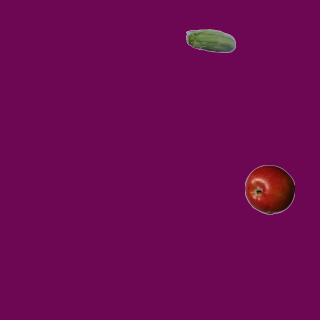Apple Braeburn: (244, 164, 294, 214)
Corn Husk: (185, 17, 235, 67)
